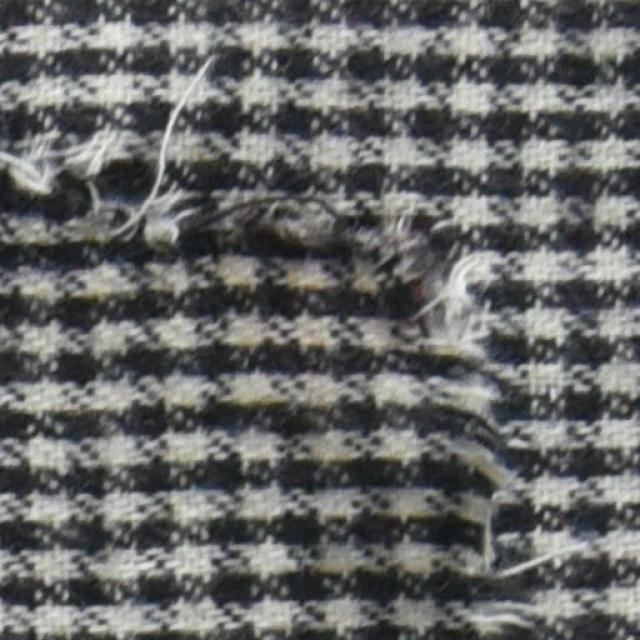Snag: (0, 47, 543, 630)
